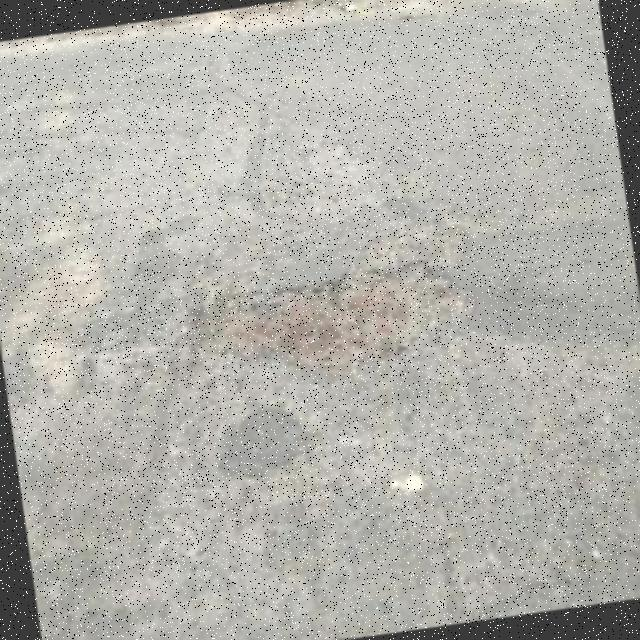Pothole: (191, 263, 464, 371)
